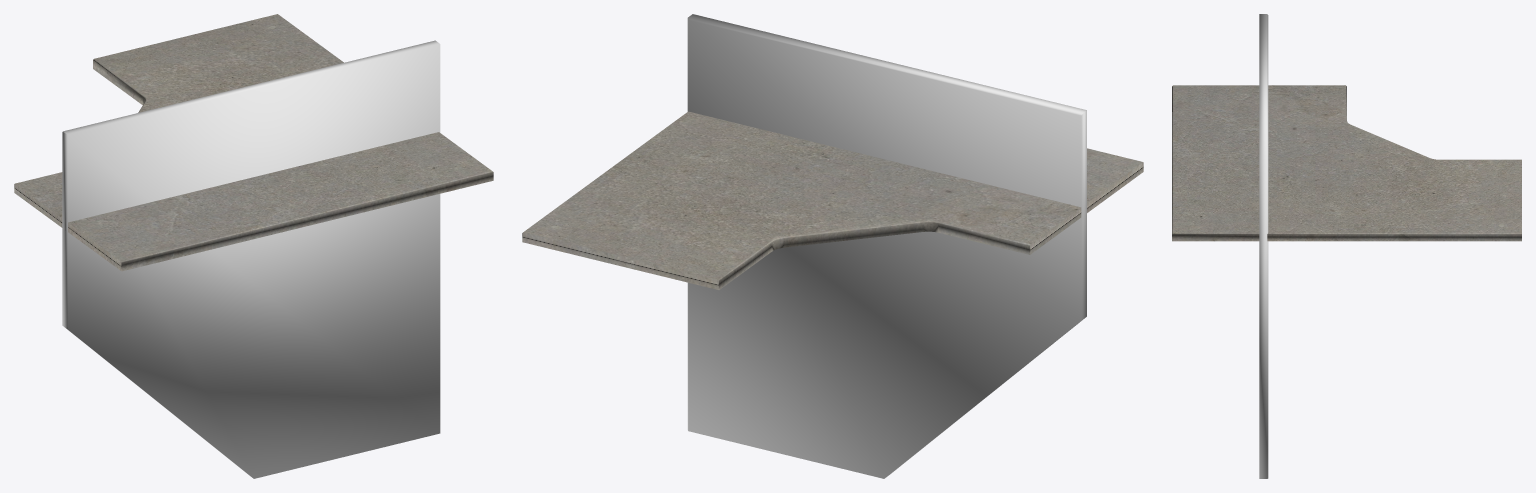
File: SM_Sidewalk_Corner_Int.fbx
3 renders of one model, left to right at view 1: azimuth 30°, elevation 25°; view 2: azimuth 150°, elevation 25°; view 3: azimuth 270°, elevation 25°, orthographic. The views are drawn at different scales.
Parts seen in each view (by area): view 1: SM_Sidewalk_Corner_Int_ConvexHulls, SM_Sidewalk_Corner_Int; view 2: SM_Sidewalk_Corner_Int_ConvexHulls, SM_Sidewalk_Corner_Int; view 3: SM_Sidewalk_Corner_Int, SM_Sidewalk_Corner_Int_ConvexHulls.
Boxes of the visible parts, <box> form: SM_Sidewalk_Corner_Int_ConvexHulls: <box>62,40,440,478</box>; SM_Sidewalk_Corner_Int: <box>14,14,493,271</box>; SM_Sidewalk_Corner_Int_ConvexHulls: <box>687,14,1086,478</box>; SM_Sidewalk_Corner_Int: <box>522,111,1143,289</box>; SM_Sidewalk_Corner_Int: <box>1172,85,1521,241</box>; SM_Sidewalk_Corner_Int_ConvexHulls: <box>1259,14,1268,478</box>.
Size of the model in its own units: 4 by 4 by 4.
